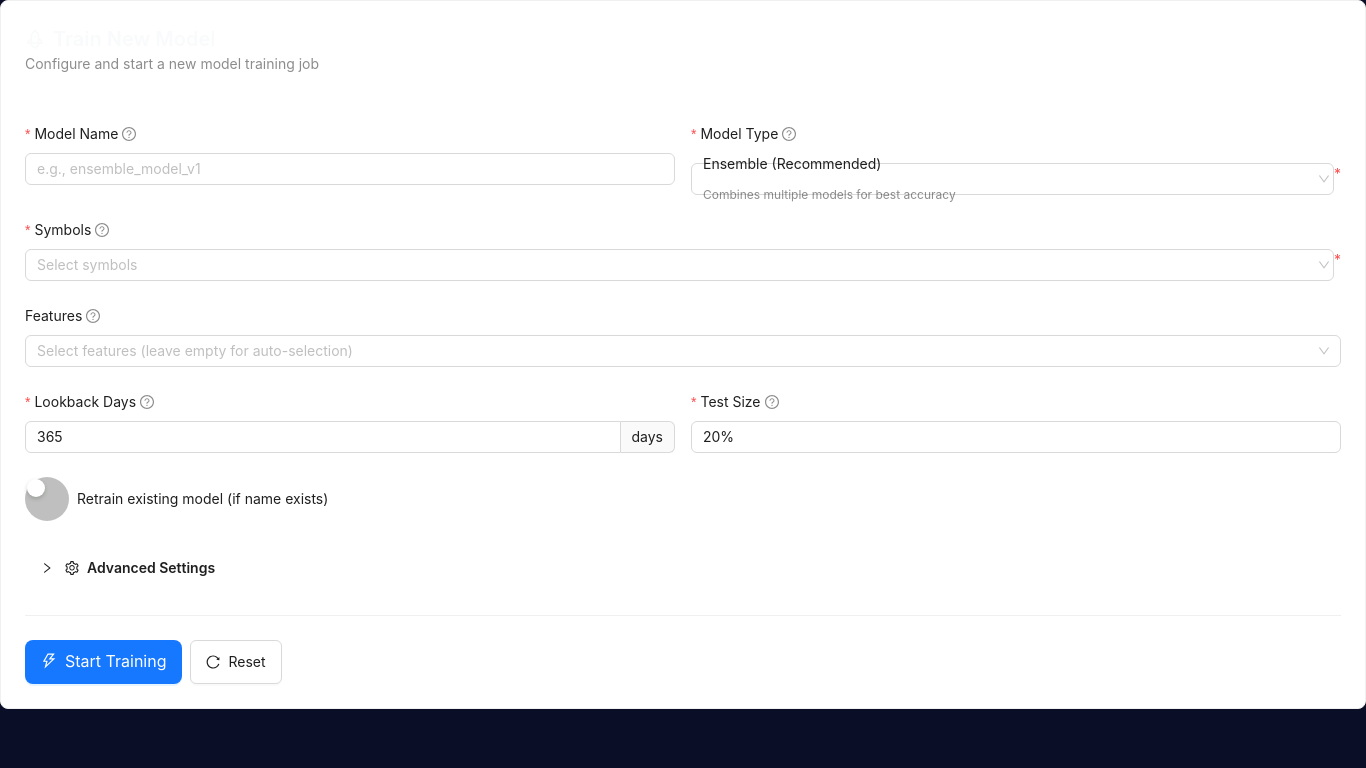
Test: TrainingForm › Form Validation › should validate model name format
Type "bad name!@#" into the field with placeholder "e.g., ensemble_model_v1".
click(350, 169); type("bad name!@#")  # box [25,153,675,185]
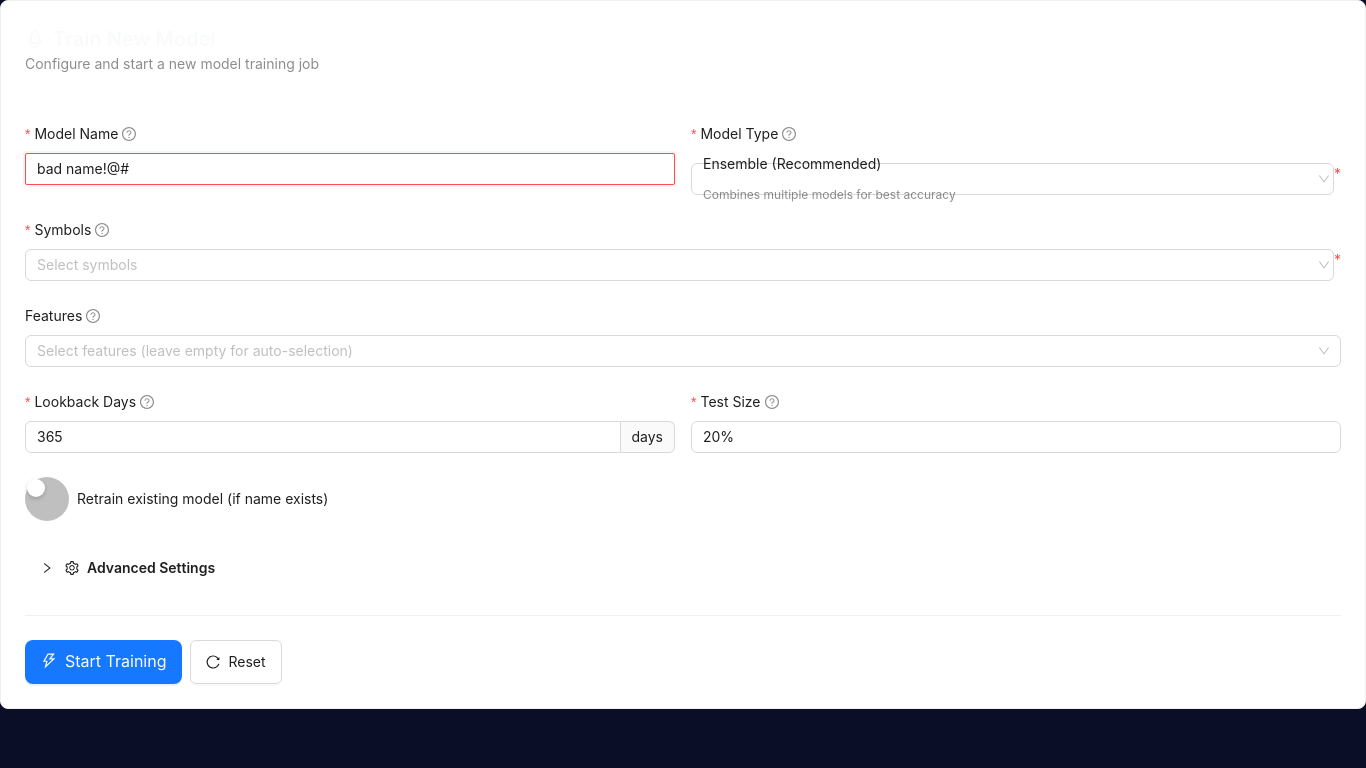
Click the button "Start Training".
click(104, 662)  # box [25,640,182,684]
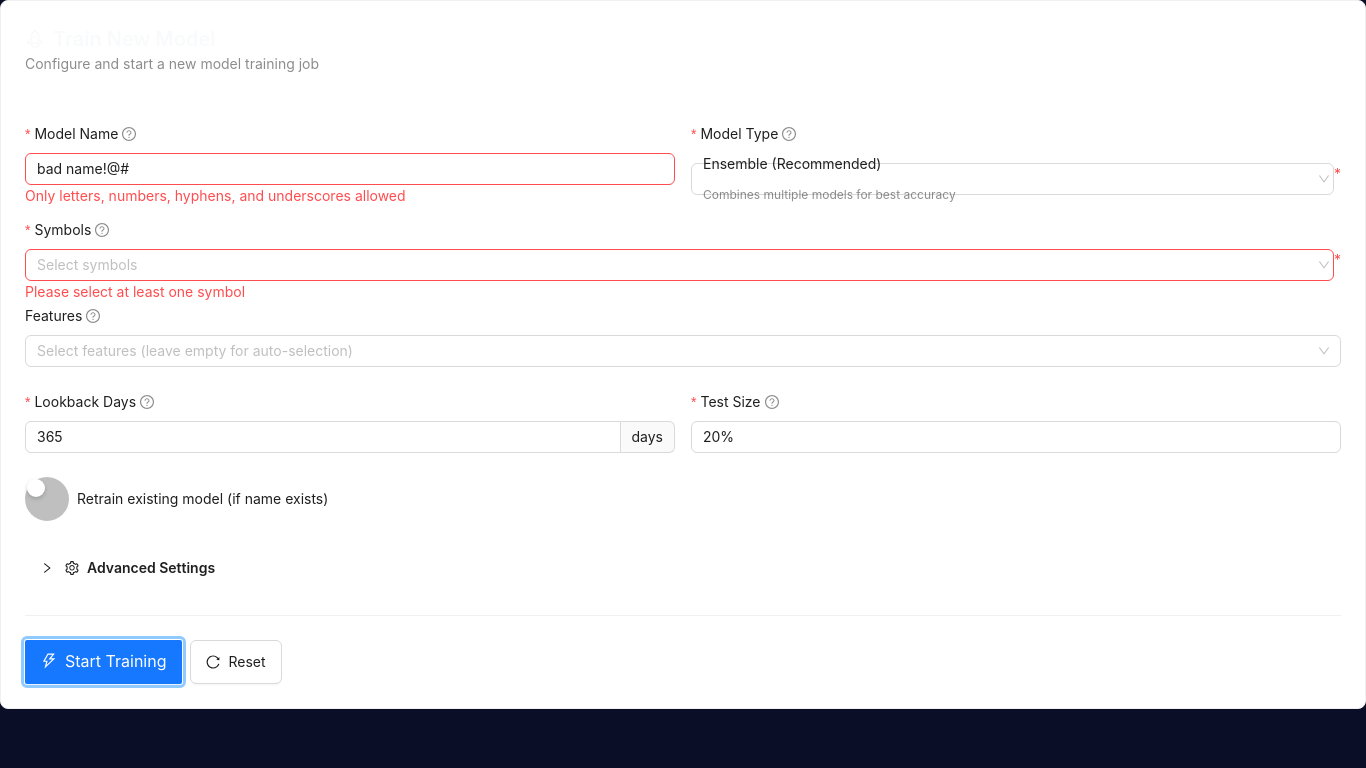
Expected: the text "Only letters, numbers, hyphens, and underscores allowed" is shown, [25,187,406,204]
